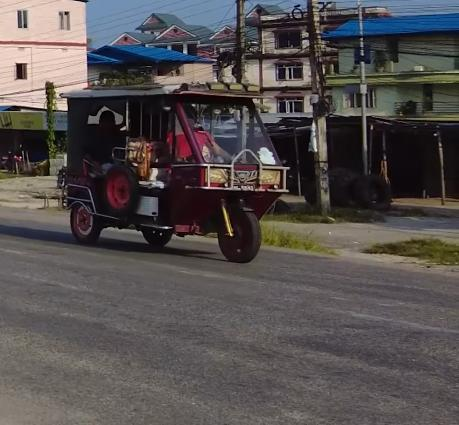e-rickshaw: (52, 69, 295, 274)
